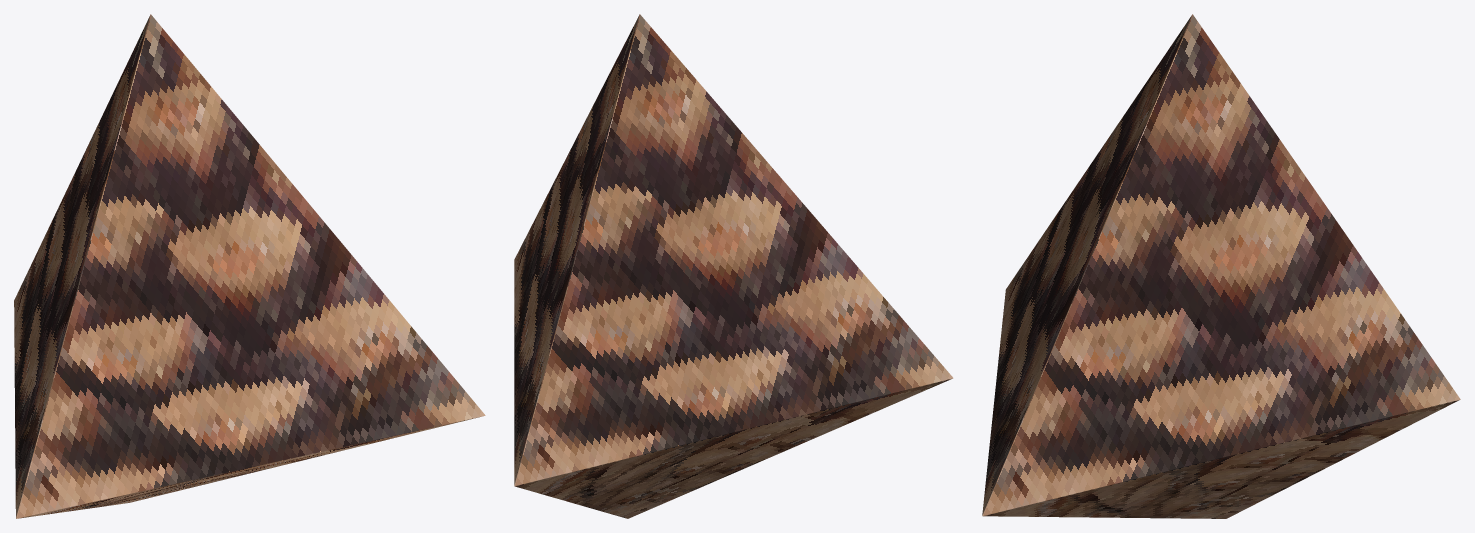
Rendered from psx_pineconre.glb.
The picture shows the model from 3 angles, left to right: view 1: azimuth 30°, elevation 25°; view 2: azimuth 150°, elevation 25°; view 3: azimuth 270°, elevation 25°; orthographic projection. The views are drawn at different scales.
Parts seen in each view (by area): view 1: _MeshInstance3D_7; view 2: _MeshInstance3D_7; view 3: _MeshInstance3D_7.
Boxes of the visible parts, x1,y1,x2,y2 form: _MeshInstance3D_7: (14,14,485,518); _MeshInstance3D_7: (514,14,953,518); _MeshInstance3D_7: (982,14,1460,518).
Bounding box in the file's own units: 0.3279 × 0.3418 × 0.2923.
Materials: 1 (1 with a texture image).
